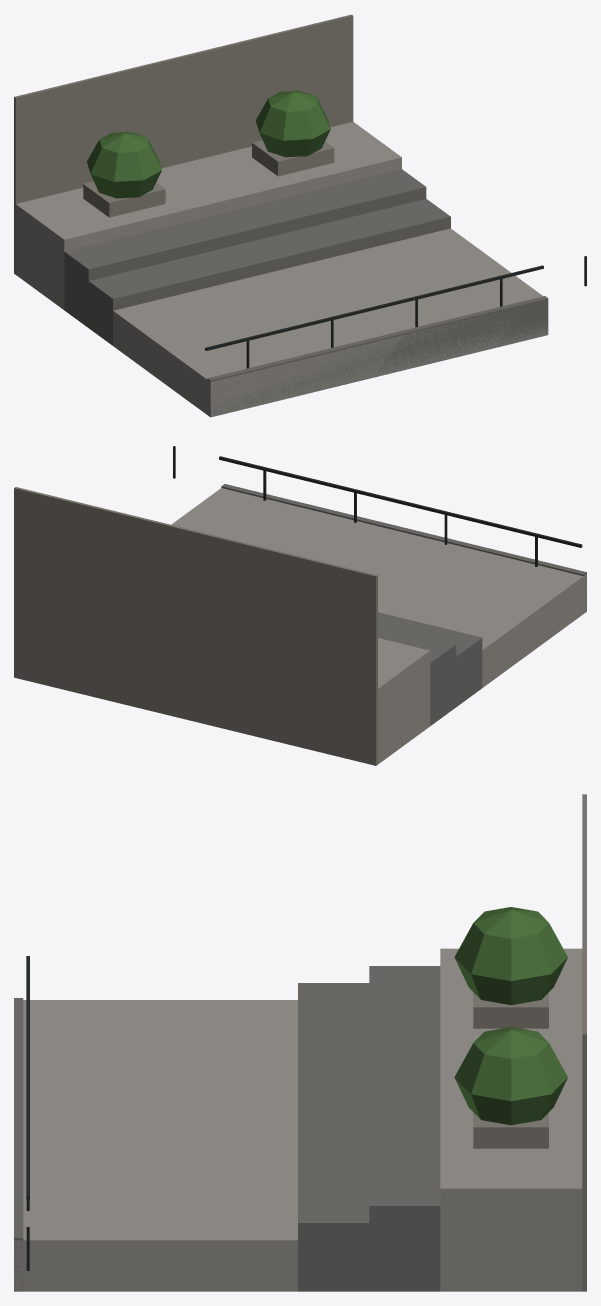
File: riverwalk.glb
The picture shows the model from 3 angles, top to bottom: view 1: azimuth 30°, elevation 25°; view 2: azimuth 150°, elevation 25°; view 3: azimuth 270°, elevation 25°; orthographic projection. The views are drawn at different scales.
Visible parts, largest first — view 1: riverwalk; view 2: riverwalk; view 3: riverwalk.
Part boxes in pixels (x1,y1,x2,y2): riverwalk: (14,14,586,417); riverwalk: (14,446,586,765); riverwalk: (14,794,586,1291).
Size of the model in its own units: 13.53 by 6 by 12.1.
1 material, 1 textured.
